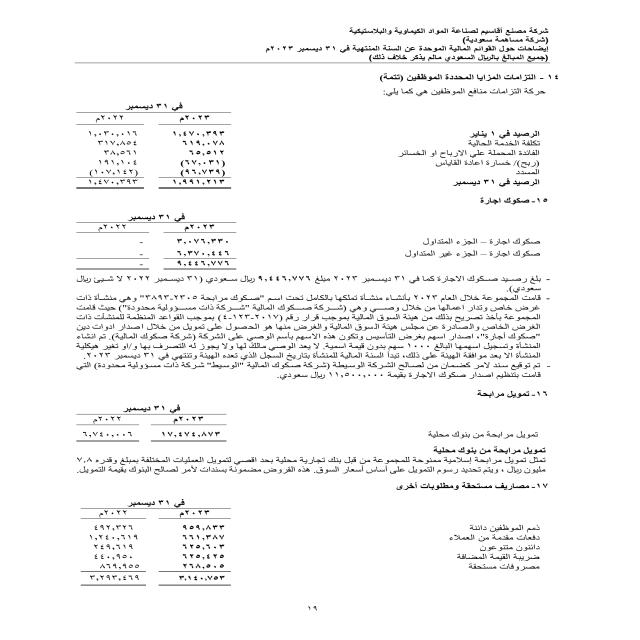notes: (446, 44, 552, 52)
table: (57, 488, 252, 598), (54, 99, 248, 198), (64, 392, 256, 449), (65, 206, 235, 268)
